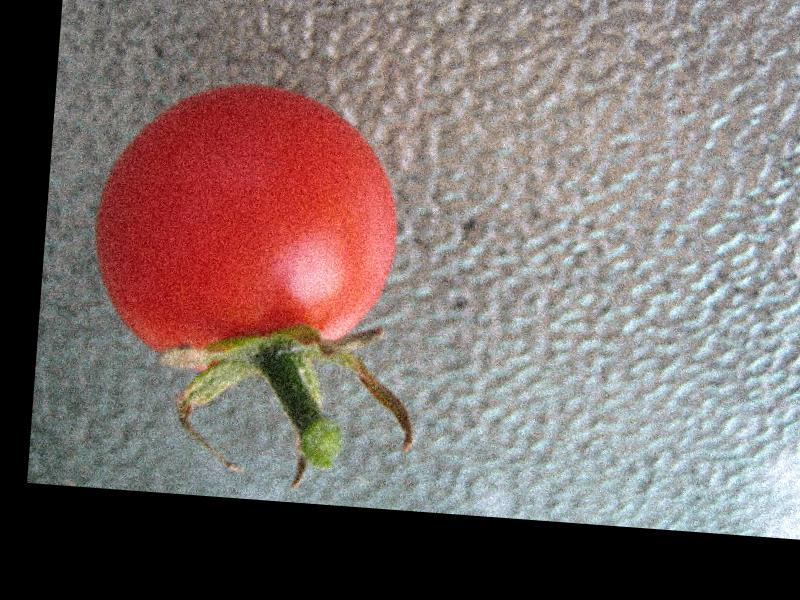Tomato: (89, 72, 411, 370)
